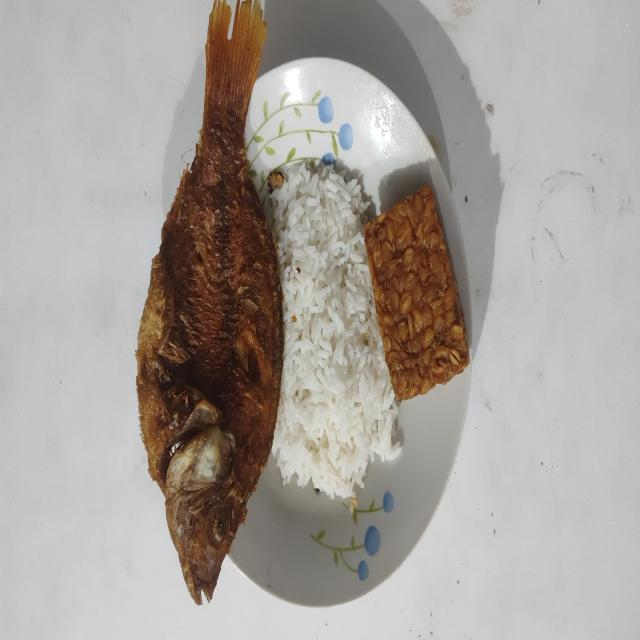ikan_mujair: (136, 0, 284, 604)
nasi_putih: (264, 160, 402, 499)
tempe_goreng: (364, 186, 470, 402)
